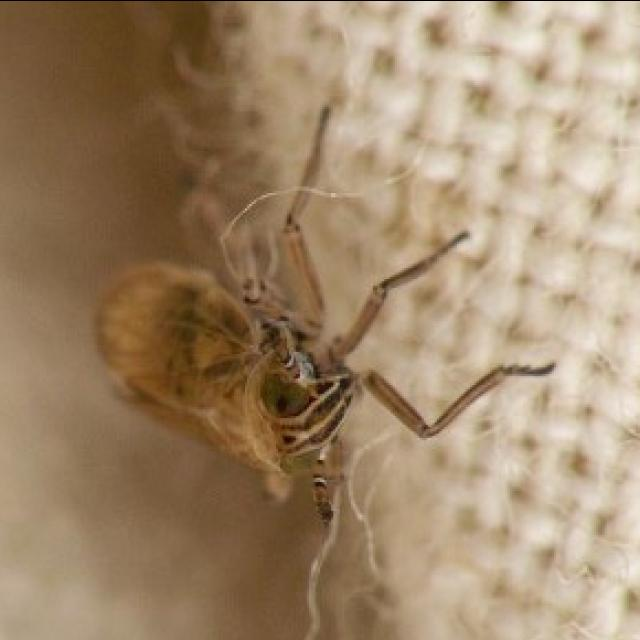brown plant hopper: (102, 194, 554, 523)
